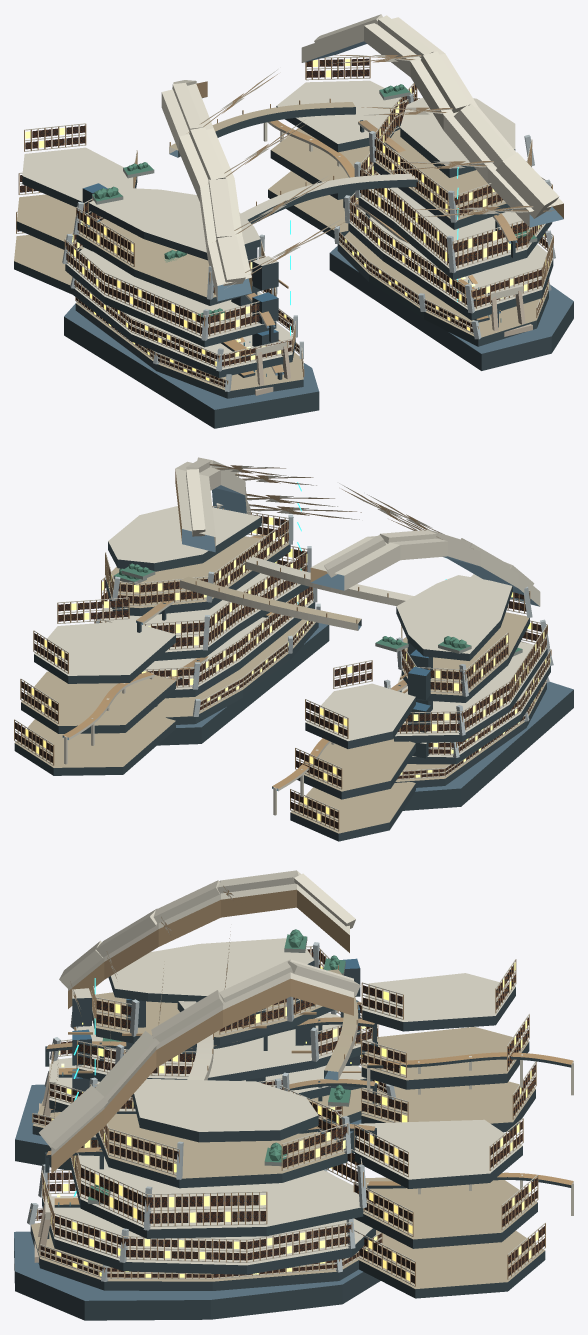
The model's file is G4E7BW_HALOCUT_CONCOURSE_ART_ONLY.glb.
3 renders of one model, top to bottom at view 1: azimuth 30°, elevation 25°; view 2: azimuth 150°, elevation 25°; view 3: azimuth 270°, elevation 25°, orthographic. The views are drawn at different scales.
Parts seen in each view (by area): view 1: West concourse real concrete inhabited foundation, EAST crossing glass-canopy structural megatruss visibly roof, East occupied ground logistics and transit foundation, W / inhabitable tapered public floor 4, WEST independent station concourse roof megatruss visibly ro, E connected civic deep-section 2, W / inhabitable tapered public floor 2, W / inhabitable tapered public floor 3, E / inhabitable tapered public floor 1, E / inhabitable tapered public floor 2, E / inhabitable tapered public floor 0, W connected civic deep-section 2 (+34 smaller); view 2: W / inhabitable tapered public floor 4, E connected civic deep-section 2, E / inhabitable tapered public floor 4, E connected civic deep-section 1, E connected civic deep-section 0, WEST independent station concourse roof megatruss visibly ro, West concourse real concrete inhabited foundation, W connected civic deep-section 2, W connected civic deep-section 1, W connected civic deep-section 0, E / inhabitable tapered public floor 3, E / inhabitable tapered public floor 0 (+33 smaller); view 3: E / inhabitable tapered public floor 2, East occupied ground logistics and transit foundation, E / inhabitable tapered public floor 4, E / inhabitable tapered public floor 1, E / inhabitable tapered public floor 3, E connected civic deep-section 1, E connected civic deep-section 2, W / inhabitable tapered public floor 4, EAST crossing glass-canopy structural megatruss visibly roof, E connected civic deep-section 0, WEST independent station concourse roof megatruss visibly ro, W connected civic deep-section 1 (+37 smaller).
Boxes of the visible parts, left/top/right/bottom form: West concourse real concrete inhabited foundation: left=64, top=303, right=319, bottom=428; EAST crossing glass-canopy structural megatruss visibly roof: left=301, top=17, right=563, bottom=227; East occupied ground logistics and transit foundation: left=329, top=246, right=573, bottom=370; W / inhabitable tapered public floor 4: left=88, top=188, right=260, bottom=260; WEST independent station concourse roof megatruss visibly ro: left=161, top=81, right=251, bottom=301; E connected civic deep-section 2: left=276, top=80, right=406, bottom=152; W / inhabitable tapered public floor 2: left=65, top=247, right=276, bottom=347; W / inhabitable tapered public floor 3: left=76, top=218, right=261, bottom=305; E / inhabitable tapered public floor 1: left=348, top=209, right=553, bottom=320; E / inhabitable tapered public floor 2: left=358, top=174, right=552, bottom=279; E / inhabitable tapered public floor 0: left=337, top=231, right=548, bottom=346; W connected civic deep-section 2: left=22, top=147, right=137, bottom=207; W / inhabitable tapered public floor 4: left=396, top=575, right=512, bottom=660; E connected civic deep-section 2: left=34, top=621, right=175, bottom=683; E / inhabitable tapered public floor 4: left=108, top=506, right=261, bottom=571; E connected civic deep-section 1: left=21, top=671, right=175, bottom=733; E connected civic deep-section 0: left=14, top=717, right=175, bottom=775; WEST independent station concourse roof megatruss visibly ro: left=310, top=536, right=540, bottom=606; West concourse real concrete inhabited foundation: left=403, top=682, right=573, bottom=810; W connected civic deep-section 2: left=305, top=683, right=415, bottom=748; W connected civic deep-section 1: left=297, top=738, right=415, bottom=799; W connected civic deep-section 0: left=290, top=782, right=415, bottom=841; E / inhabitable tapered public floor 3: left=105, top=536, right=290, bottom=615; E / inhabitable tapered public floor 0: left=142, top=619, right=318, bottom=724; E / inhabitable tapered public floor 2: left=70, top=1155, right=363, bottom=1238; East occupied ground logistics and transit foundation: left=14, top=1231, right=380, bottom=1320; E / inhabitable tapered public floor 4: left=132, top=1079, right=318, bottom=1142; E / inhabitable tapered public floor 1: left=42, top=1196, right=375, bottom=1274; E / inhabitable tapered public floor 3: left=96, top=1114, right=347, bottom=1188; E connected civic deep-section 1: left=354, top=1177, right=537, bottom=1248; E connected civic deep-section 2: left=354, top=1119, right=522, bottom=1188; W / inhabitable tapered public floor 4: left=108, top=938, right=314, bottom=1002; EAST crossing glass-canopy structural megatruss visibly roof: left=51, top=959, right=353, bottom=1173; E connected civic deep-section 0: left=359, top=1230, right=545, bottom=1298; WEST independent station concourse roof megatruss visibly ro: left=68, top=870, right=349, bottom=1008; W connected civic deep-section 1: left=361, top=1026, right=529, bottom=1089.
Size of the model in its own units: 526 by 318 by 539.
Materials: 17 (1 with a texture image).
